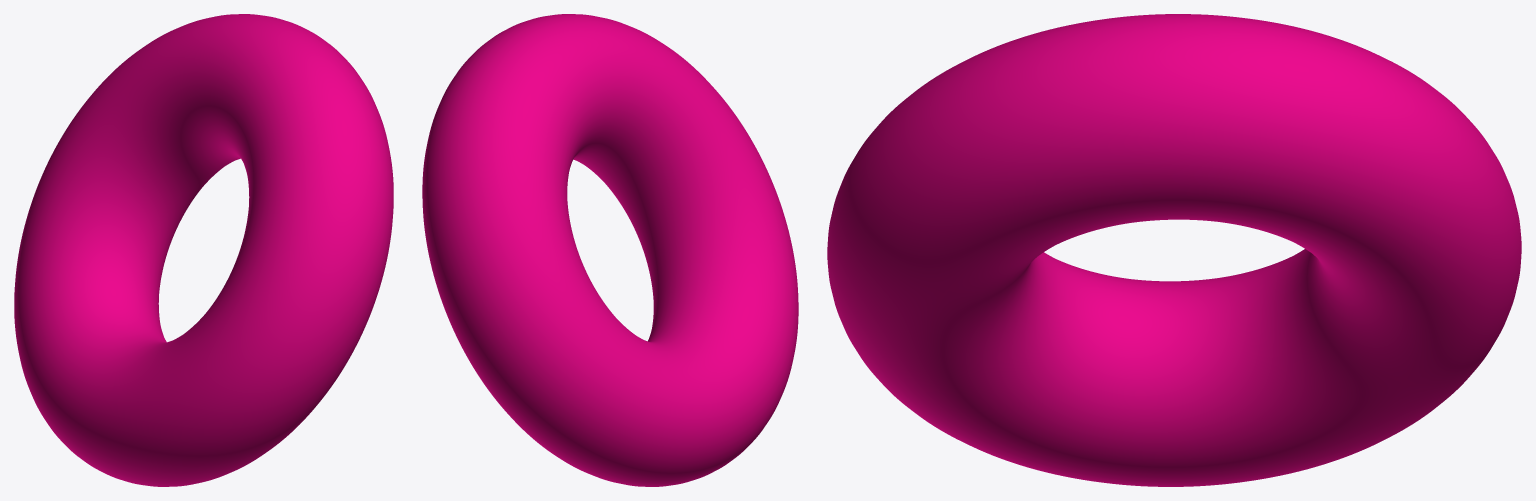
3 renders of one model, left to right at view 1: azimuth 30°, elevation 25°; view 2: azimuth 150°, elevation 25°; view 3: azimuth 270°, elevation 25°, orthographic. The views are drawn at different scales.
Visible parts, largest first — view 1: Torus.001; view 2: Torus.001; view 3: Torus.001.
Boxes of the visible parts, x1=… form: Torus.001: x1=14, y1=14, x2=393, y2=486; Torus.001: x1=422, y1=14, x2=798, y2=486; Torus.001: x1=827, y1=14, x2=1521, y2=486.
Size of the model in its own units: 0.9311 by 1.25 by 1.39.
